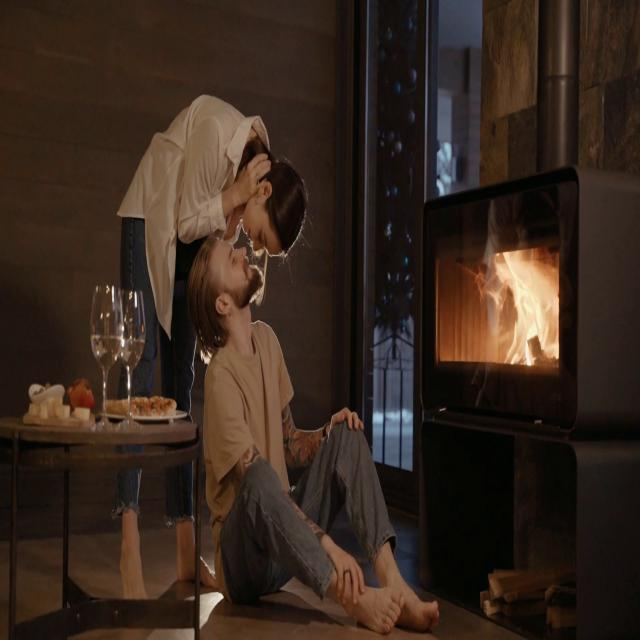Fire: (486, 252, 564, 366)
